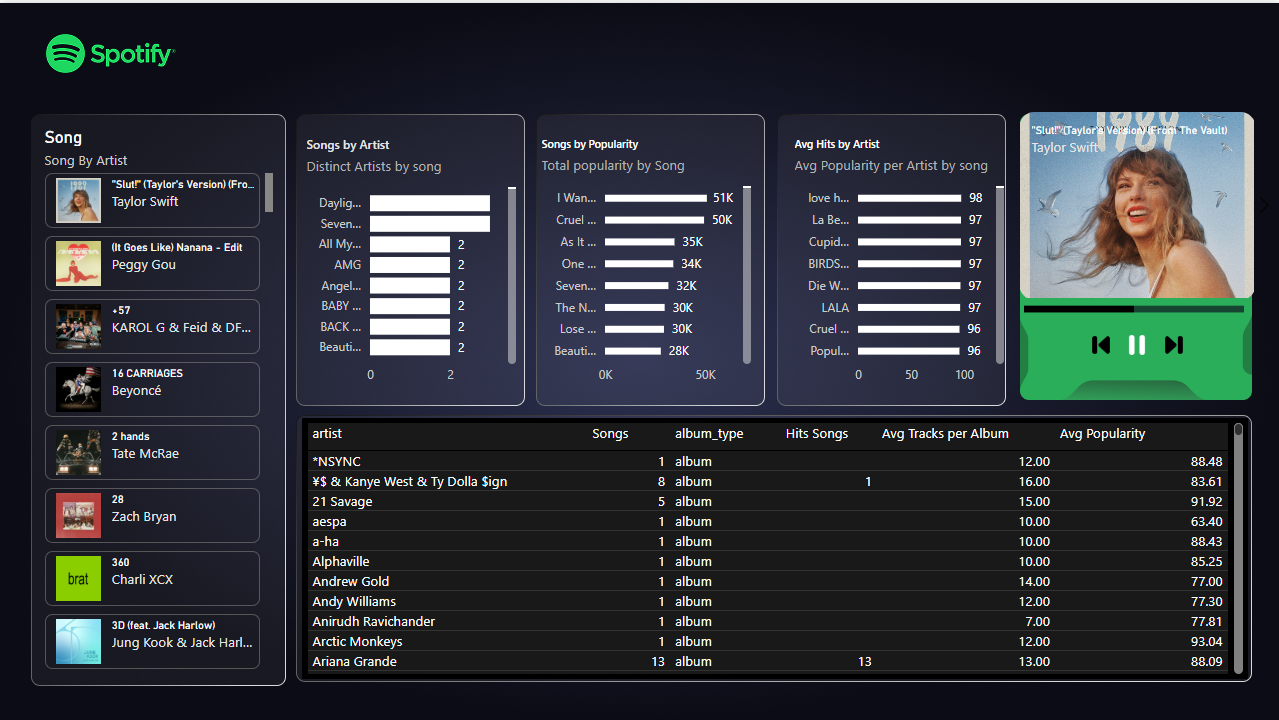

Layout of this report page (visuals, bound fields, positions):
{"tool":"powerbi","page":{"name":"Songs","canvas":[1280,720],"ordinal":3},"visuals":[{"type":"advancedSlicerVisual","title":"Song ","fields":{"Values":["Top-50-World.song"]},"box":[993.5,103.3,286.5,197.4],"z":0},{"type":"hundredPercentStackedBarChart","fields":{"Y":["_Measures.Avg Popularity","Avg(Top-50-World.popularity)"]},"box":[1019.3,264.6,229.5,76.8],"z":1000},{"type":"image","box":[1153.8,326.6,40,30],"z":2000},{"type":"image","box":[1117.4,326.6,40,30],"z":3000},{"type":"image","box":[1081,326.6,40,30],"z":4000},{"type":"shape","box":[1017.4,115.7,239.3,274.3],"z":5000},{"type":"clusteredBarChart","title":"Songs by Artist ","fields":{"Category":["Top-50-World.song"],"Y":["_Measures.Distinct Artists"]},"box":[301.5,133.3,219.8,256.8],"z":6000},{"type":"clusteredBarChart","title":"Songs by Popularity","fields":{"Category":["Top-50-World.song"],"Y":["Sum(Top-50-World.popularity)"]},"box":[536.9,133.3,218.8,256.8],"z":7000},{"type":"clusteredBarChart","title":"Avg Hits by Artist","fields":{"Category":["Top-50-World.song"],"Y":["_Measures.Avg Popularity per Artist"]},"box":[789.8,133.3,218.8,256.8],"z":8000},{"type":"advancedSlicerVisual","title":"Song ","fields":{"Values":["Top-50-World.song"]},"box":[39.9,123.5,238.3,552.5],"z":9000},{"type":"tableEx","fields":{"Values":["Top-50-World.artist","_Measures.Distinct Songs","Top-50-World.album_type","_Measures.Position1 Hits per Artist","_Measures.Avg Tracks per Album","_Measures.Avg Popularity"]},"box":[301.9,415.4,946.6,260.8],"z":9001}]}

Visuals, with their boxes in screenshot pixels (x1, y1, x2, y2), scaled from the page's 1280x720 canvas onto the 1279x720 screenshot:
"Song " advancedSlicerVisual: detection(993, 103, 1278, 301)
hundredPercentStackedBarChart - _Measures.Avg Popularity x Avg(Top-50-World.popularity): detection(1019, 265, 1248, 341)
image: detection(1153, 327, 1193, 357)
image: detection(1117, 327, 1156, 357)
image: detection(1080, 327, 1120, 357)
shape: detection(1017, 116, 1256, 390)
"Songs by Artist " clusteredBarChart: detection(301, 133, 521, 390)
"Songs by Popularity" clusteredBarChart: detection(536, 133, 755, 390)
"Avg Hits by Artist" clusteredBarChart: detection(789, 133, 1008, 390)
"Song " advancedSlicerVisual: detection(40, 124, 278, 676)
tableEx - Top-50-World.artist x _Measures.Distinct Songs: detection(302, 415, 1248, 676)
